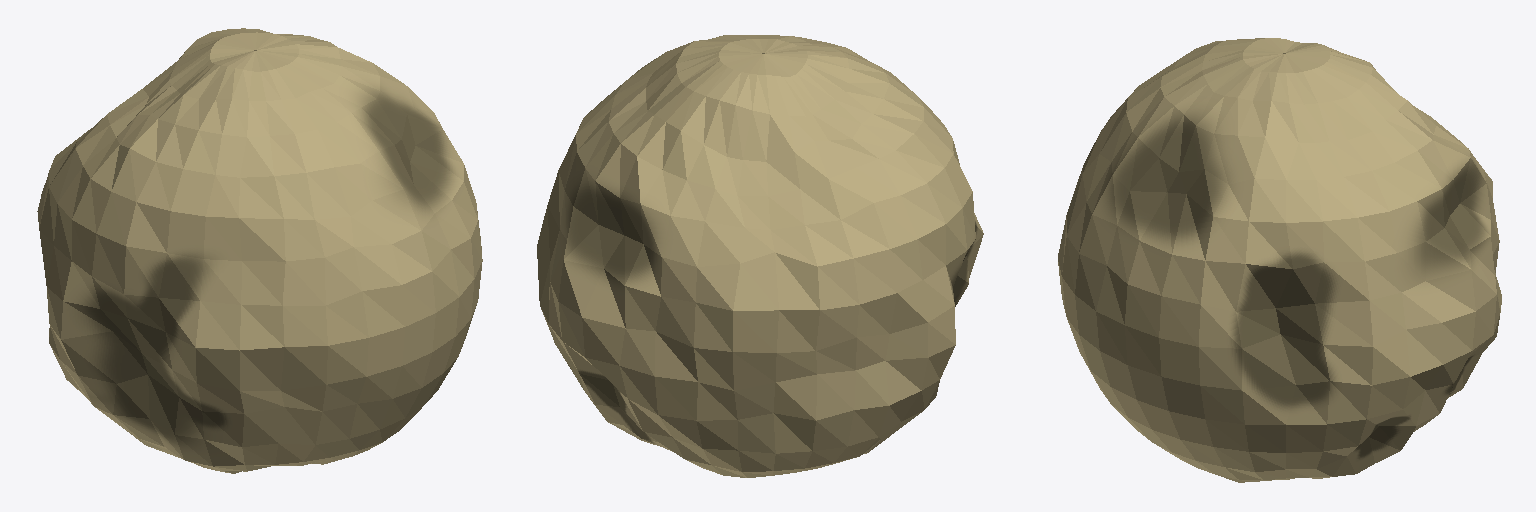
The picture shows the model from 3 angles: view 1: azimuth 30°, elevation 25°; view 2: azimuth 150°, elevation 25°; view 3: azimuth 270°, elevation 25°; orthographic projection.
Parts seen in each view (by area): view 1: Sphere; view 2: Sphere; view 3: Sphere.
Part boxes in pixels (bbox=[...]): Sphere: bbox=[37, 28, 482, 473]; Sphere: bbox=[537, 35, 983, 477]; Sphere: bbox=[1058, 38, 1501, 482].
Size of the model in its own units: 1.94 by 1.97 by 1.95.
Materials: 1 (1 with a texture image).